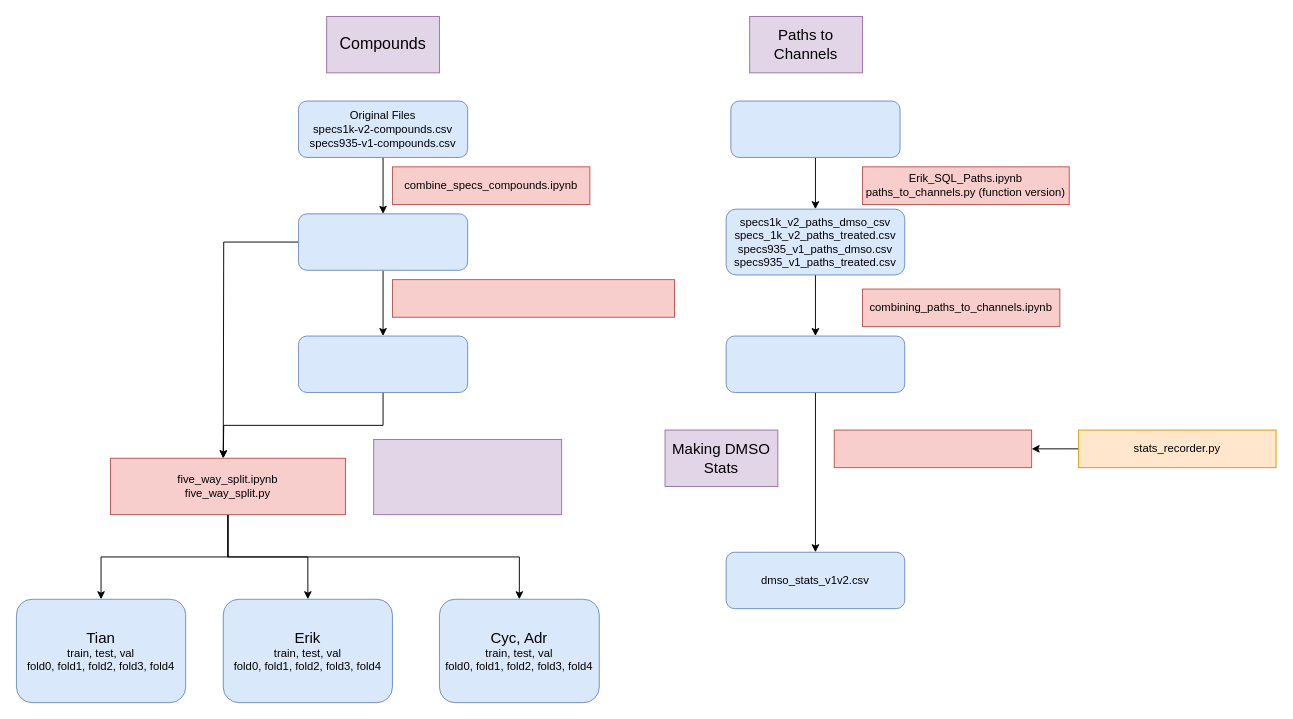
The diagram is 1293 pixels wide and 719 high, and some of its shapes have lost their labels. The shapes that lost their labels are listed below. From the top down, each one's centre as x and y in pixels, then its label:
At [815,128]: "Original Files Database with all SPECS Compounds and their paths".
At [383,241]: "compounds_v1v2.csv compounds_v1v2_no_enants.csv".
At [533,298]: "creates_compounds_found_in_clue_v1v2.ipynb".
At [383,363]: "clue_cmpds_in_cmpds_v1v2.csv".
At [815,363]: "paths_channels_treated_v1v2.csv paths_channels_dmso_v1v2.csv".
At [932,448]: "Erik_make_dmso_stats.py Erik_make_dmso_stats.ipynb".
At [467,477]: "Splitting Compounds Into Train, Test, Val Using Stratified K-Fold".
